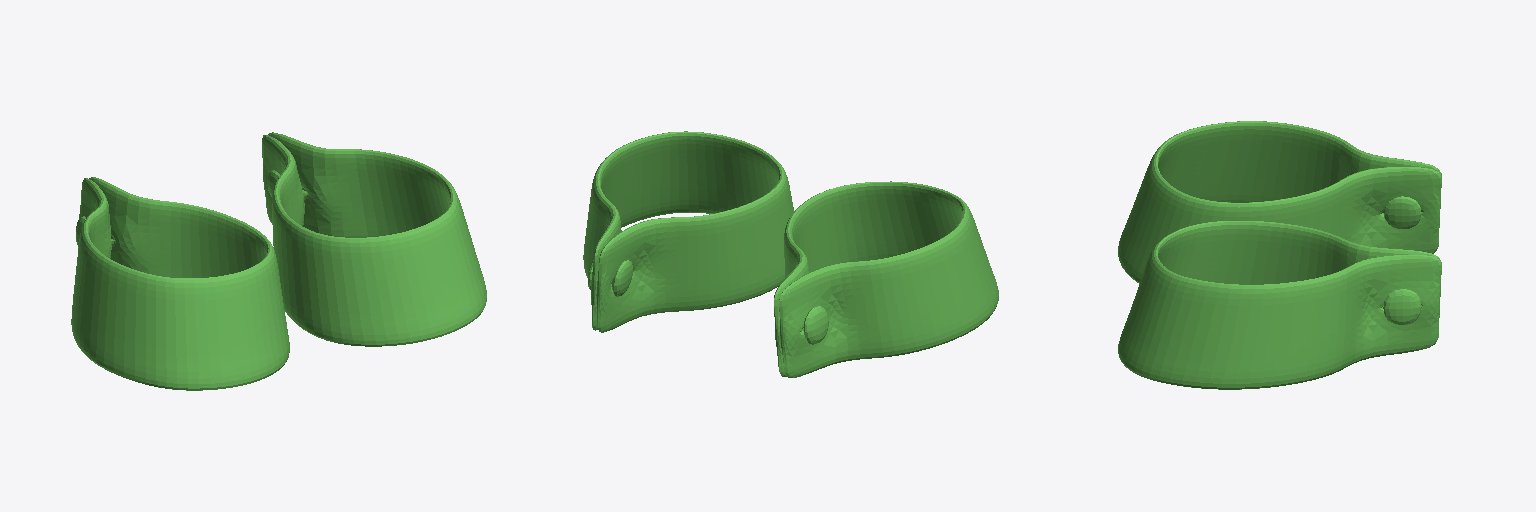
The model's file is sleeves.obj.
The picture shows the model from 3 angles: view 1: azimuth 30°, elevation 25°; view 2: azimuth 150°, elevation 25°; view 3: azimuth 270°, elevation 25°; orthographic projection.
Parts seen in each view (by area): view 1: sleeves; view 2: sleeves; view 3: sleeves.
Boxes of the visible parts, <box> form: sleeves: <box>71,132,486,390</box>; sleeves: <box>583,131,998,377</box>; sleeves: <box>1118,121,1441,389</box>.
Size of the model in its own units: 13.03 by 3.5 by 9.7.